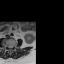CCS_stenosis: (9, 44, 11, 50)
LFS_normal: (13, 43, 14, 48)
LLS_normal: (11, 43, 13, 49)
RFS_normal: (6, 43, 8, 48)
RLS_normal: (8, 44, 9, 49)
